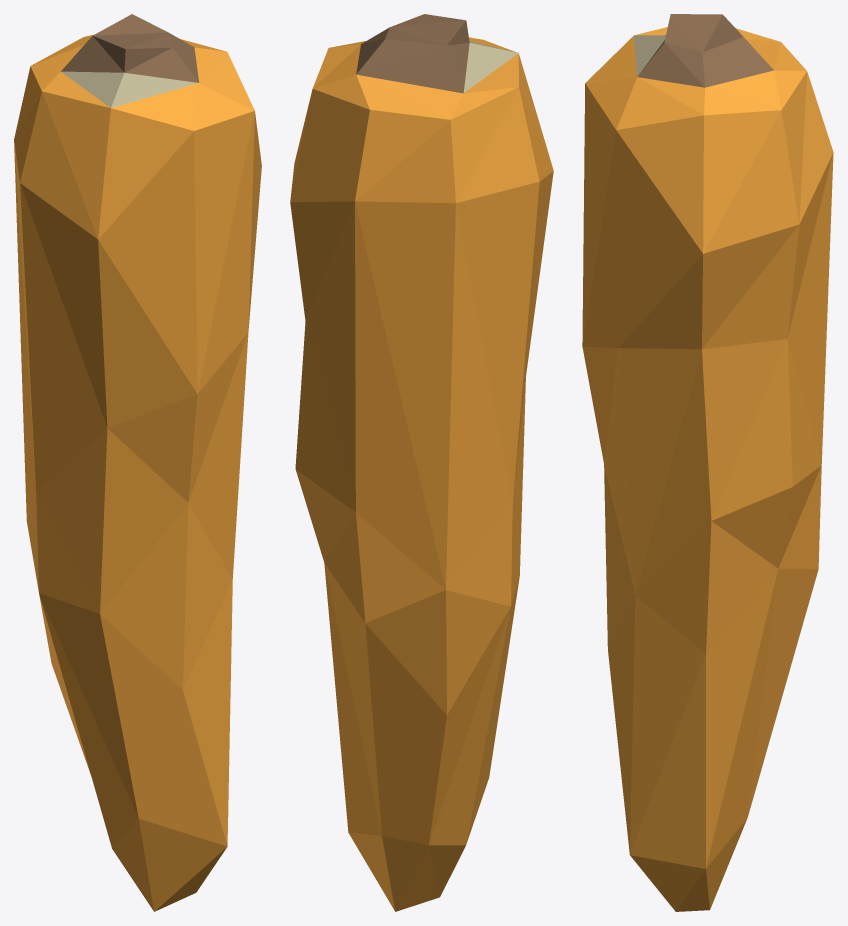
File: Carrot.glb
3 renders of one model, left to right at view 1: azimuth 30°, elevation 25°; view 2: azimuth 150°, elevation 25°; view 3: azimuth 270°, elevation 25°, orthographic. The views are drawn at different scales.
Visible parts, largest first — view 1: Carrot; view 2: Carrot; view 3: Carrot.
Boxes of the visible parts, box(x1,y1,x2,y2) form: Carrot: box(14, 14, 261, 911); Carrot: box(290, 14, 553, 911); Carrot: box(582, 14, 833, 911).
Bounding box in the file's own units: 1.99 × 6.88 × 1.79.
